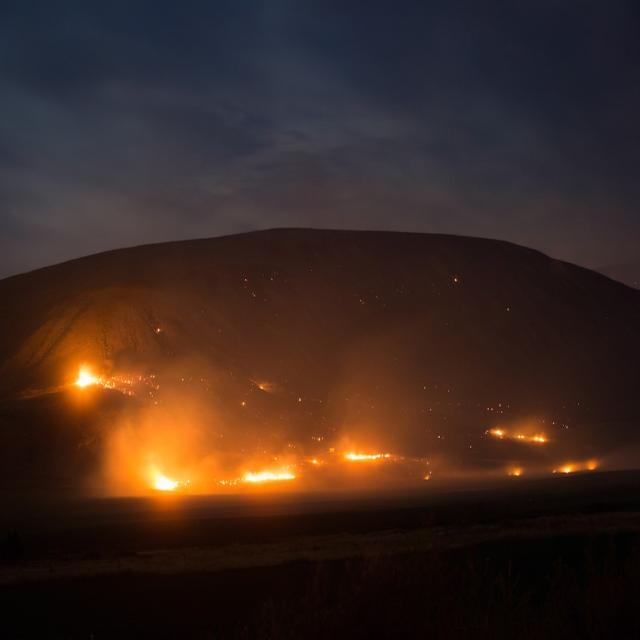Fire: (233, 468, 308, 483), (491, 424, 549, 443), (347, 448, 396, 462), (156, 468, 178, 497), (76, 361, 95, 386)
Smoke: (123, 367, 231, 493)
